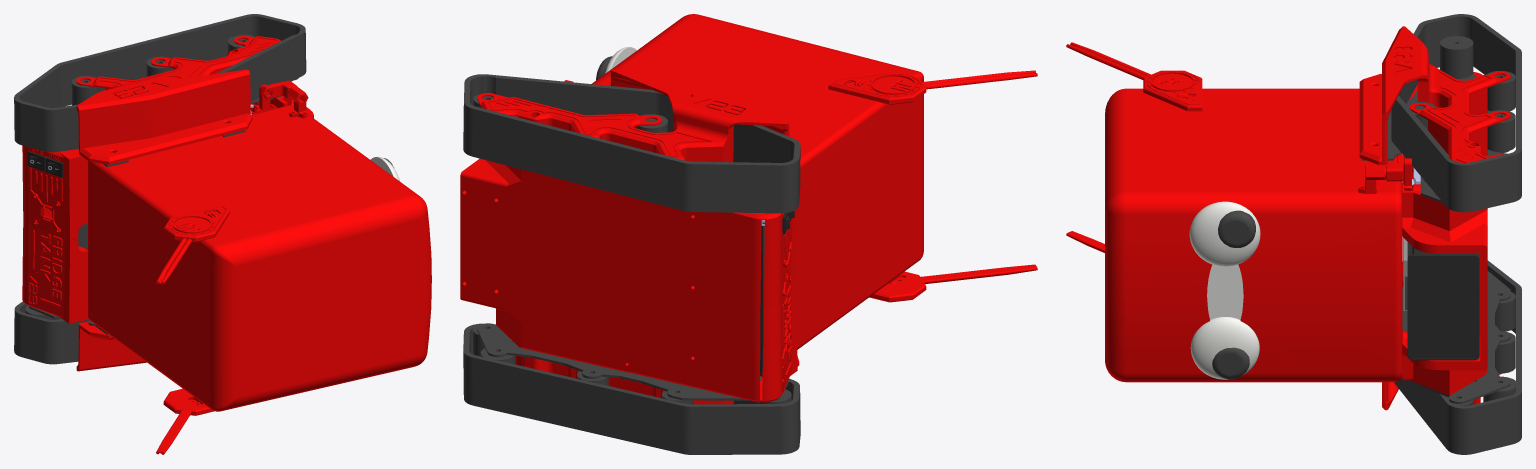
3 renders of one model, left to right at view 1: azimuth 30°, elevation 25°; view 2: azimuth 150°, elevation 25°; view 3: azimuth 270°, elevation 25°, orthographic. The views are drawn at different scales.
Visible parts, largest first — view 1: fridgelink, metalsiding-right, Body1:3; view 2: fridgelink, metalsiding-right; view 3: fridgelink, metalsiding-right, Body1, Fridgedoor.
Boxes of the visible parts, x1,y1,x2,y2 form: fridgelink: (22,36,431,454); metalsiding-right: (14,14,393,364); Body1:3: (27,151,63,177); fridgelink: (460,14,1037,404); metalsiding-right: (463,56,800,454); fridgelink: (1066,26,1510,410); metalsiding-right: (1212,14,1521,454); Body1: (1407,242,1479,360); Fridgedoor: (1189,201,1260,379).
Bounding box in the file's own units: 35.79 × 28.38 × 39.28.
